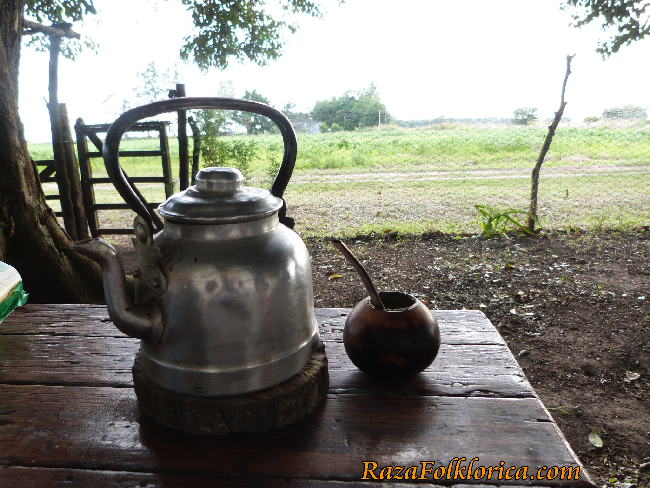guampa: (321, 236, 447, 401)
